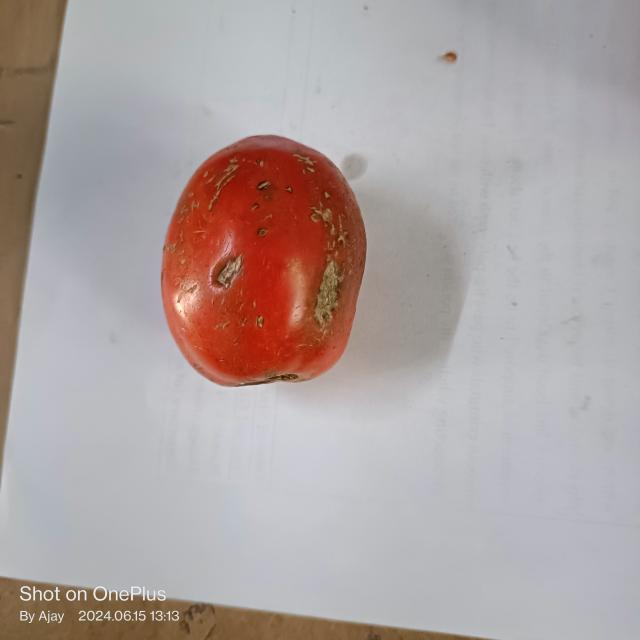Bacterial_Spot: (309, 190, 350, 336), (211, 249, 243, 294), (254, 178, 274, 194), (254, 314, 268, 330), (255, 225, 268, 240), (253, 155, 267, 167), (284, 185, 295, 198), (251, 200, 260, 212)
